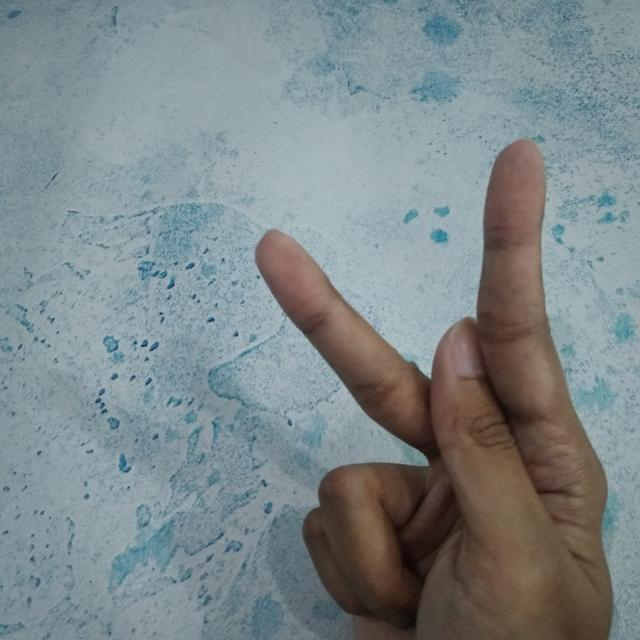K: (250, 133, 640, 639)
